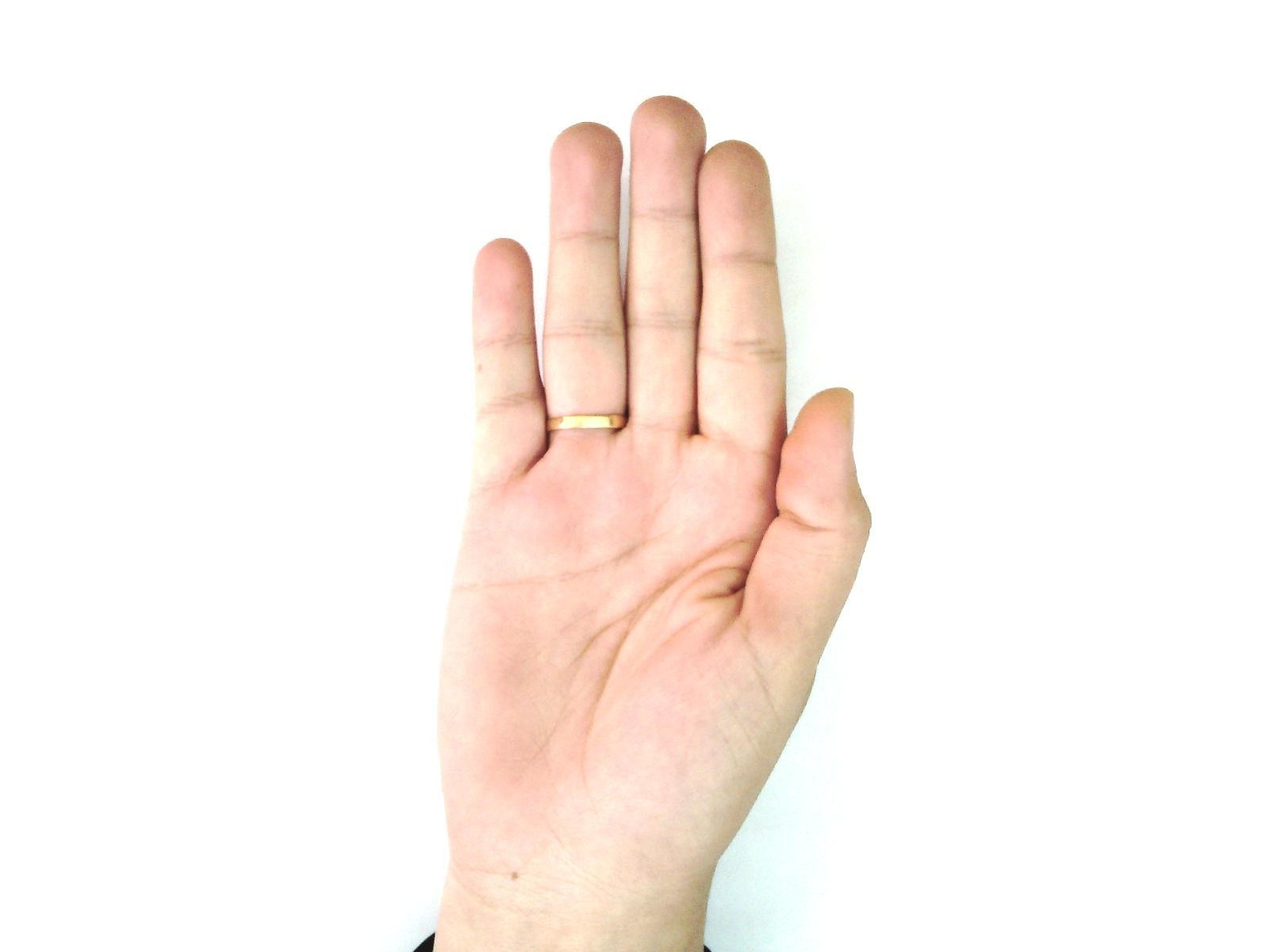open_palm: (431, 94, 876, 884)
